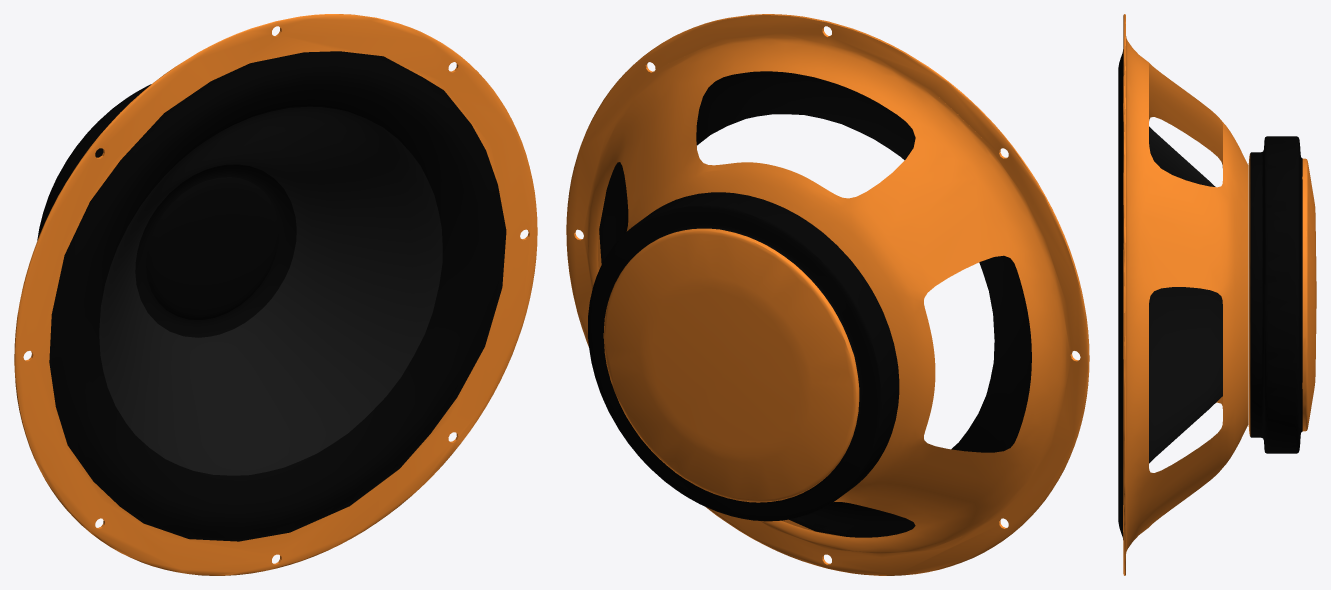
The model's file is speaker3dec.obj.
3 views of the same model, side by side, from view 1: azimuth 30°, elevation 25°; view 2: azimuth 150°, elevation 25°; view 3: azimuth 270°, elevation 25° (orthographic). The views are drawn at different scales.
Parts seen in each view (by area): view 1: Circle; view 2: Circle; view 3: Circle.
Boxes of the visible parts, x1,y1,x2,y2 form: Circle: (14,14,537,575); Circle: (566,14,1089,575); Circle: (1118,14,1316,575).
Bounding box in the file's own units: 6.06 × 6.05 × 2.14.
